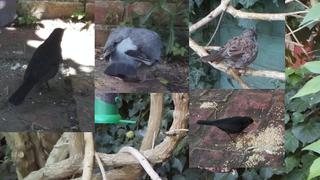blackbird: (8, 27, 68, 106), (196, 116, 258, 144)
dunnock: (196, 27, 258, 76)
wood pigeon: (103, 27, 162, 84)
